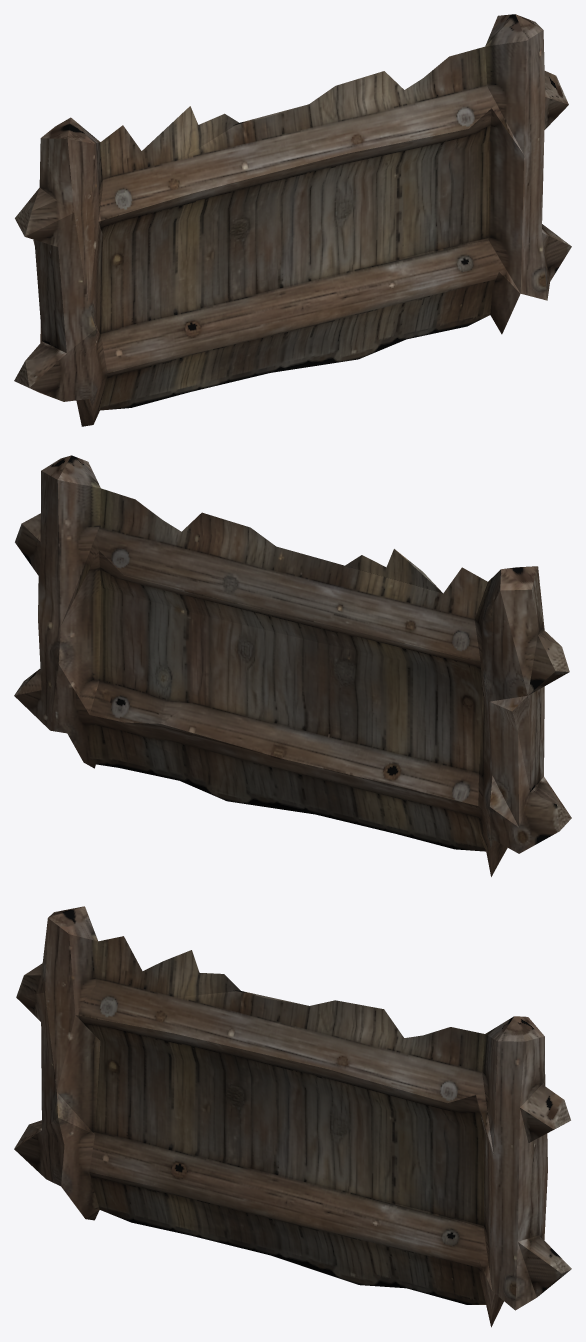
File: westfall_fence_lod0.glb
The picture shows the model from 3 angles, top to bottom: view 1: azimuth 30°, elevation 25°; view 2: azimuth 150°, elevation 25°; view 3: azimuth 330°, elevation 25°; orthographic projection.
Parts seen in each view (by area): view 1: low; view 2: low; view 3: low.
Boxes of the visible parts, x1,y1,x2,y2 form: low: (14, 14, 571, 426); low: (14, 455, 571, 876); low: (14, 906, 571, 1327).
Bounding box in the file's own units: 3.01 × 1.65 × 0.3734.
1 material, 1 textured.
